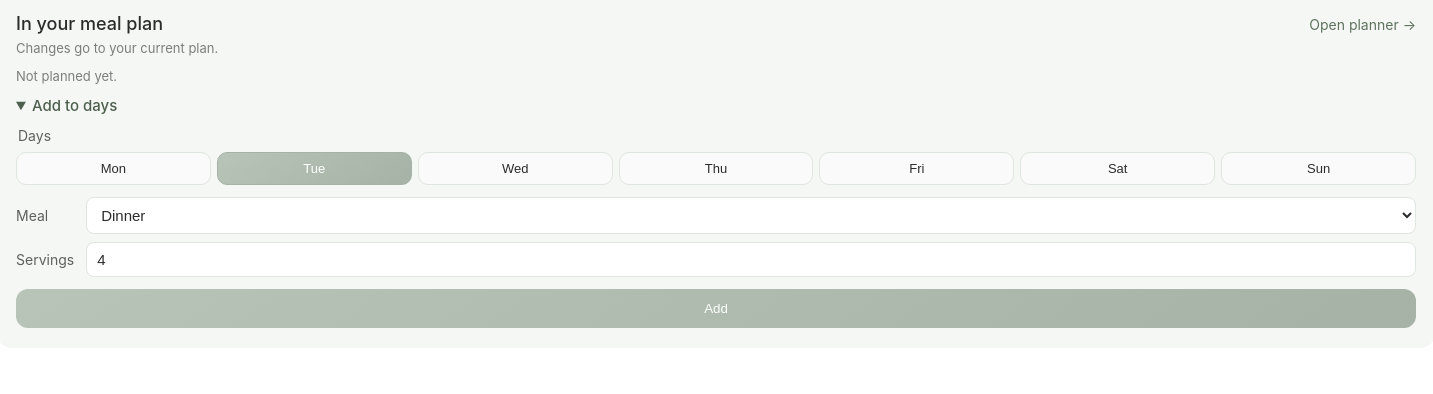
it: adding over a different meal warns first
This screenshot has width=1433, height=394.
What coordinates should you click on to do the following:
click the button with aria-label "Monday"
I would click on:
 (113, 168)
Its box is [16,152,211,185].
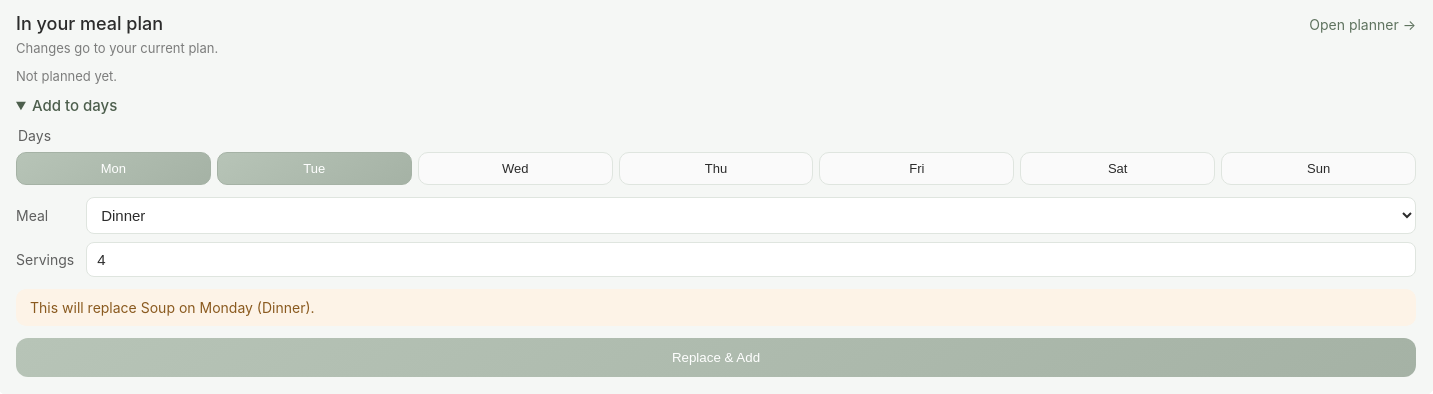
Expected: the message reads "This will replace Soup on Monday (Dinner).", [16,289,1416,326]
